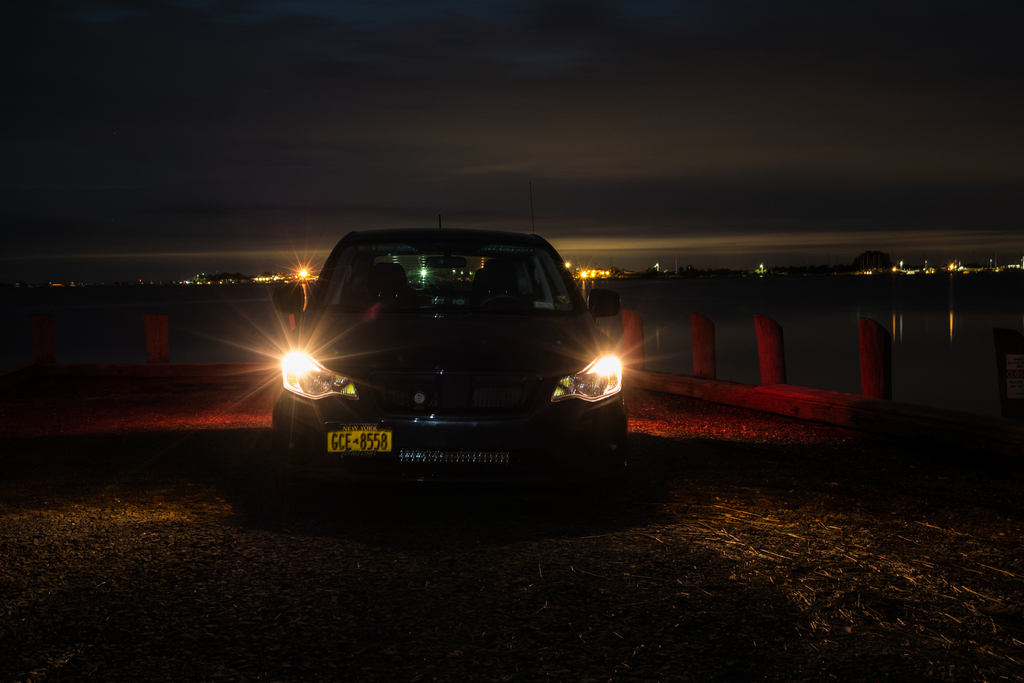Car: (273, 217, 629, 518)
